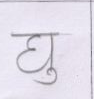u_matra: (35, 68, 60, 86)
